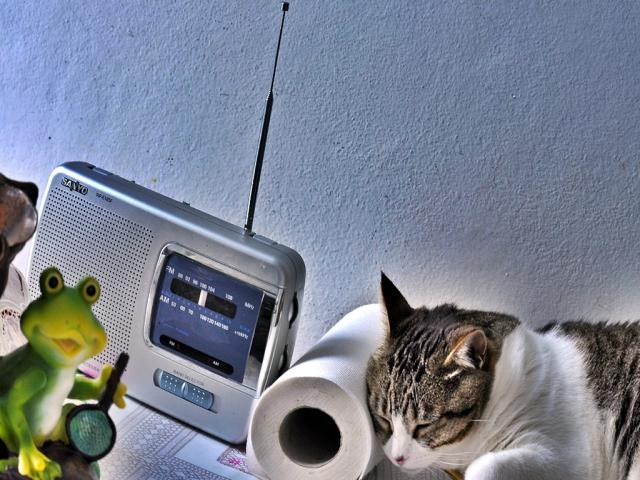Cat: (366, 271, 640, 479)
